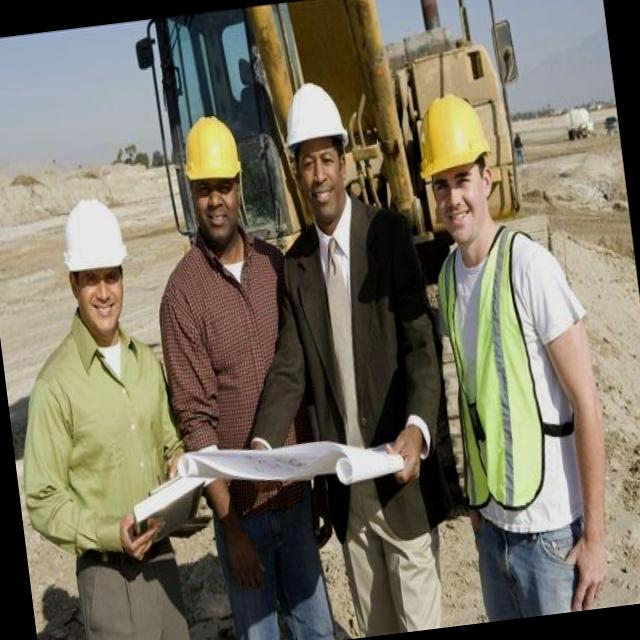helmet: (408, 84, 497, 184), (53, 193, 132, 282), (276, 77, 351, 158), (174, 107, 244, 188)
no-vest: (260, 201, 450, 537), (151, 227, 311, 525), (30, 312, 177, 560)
